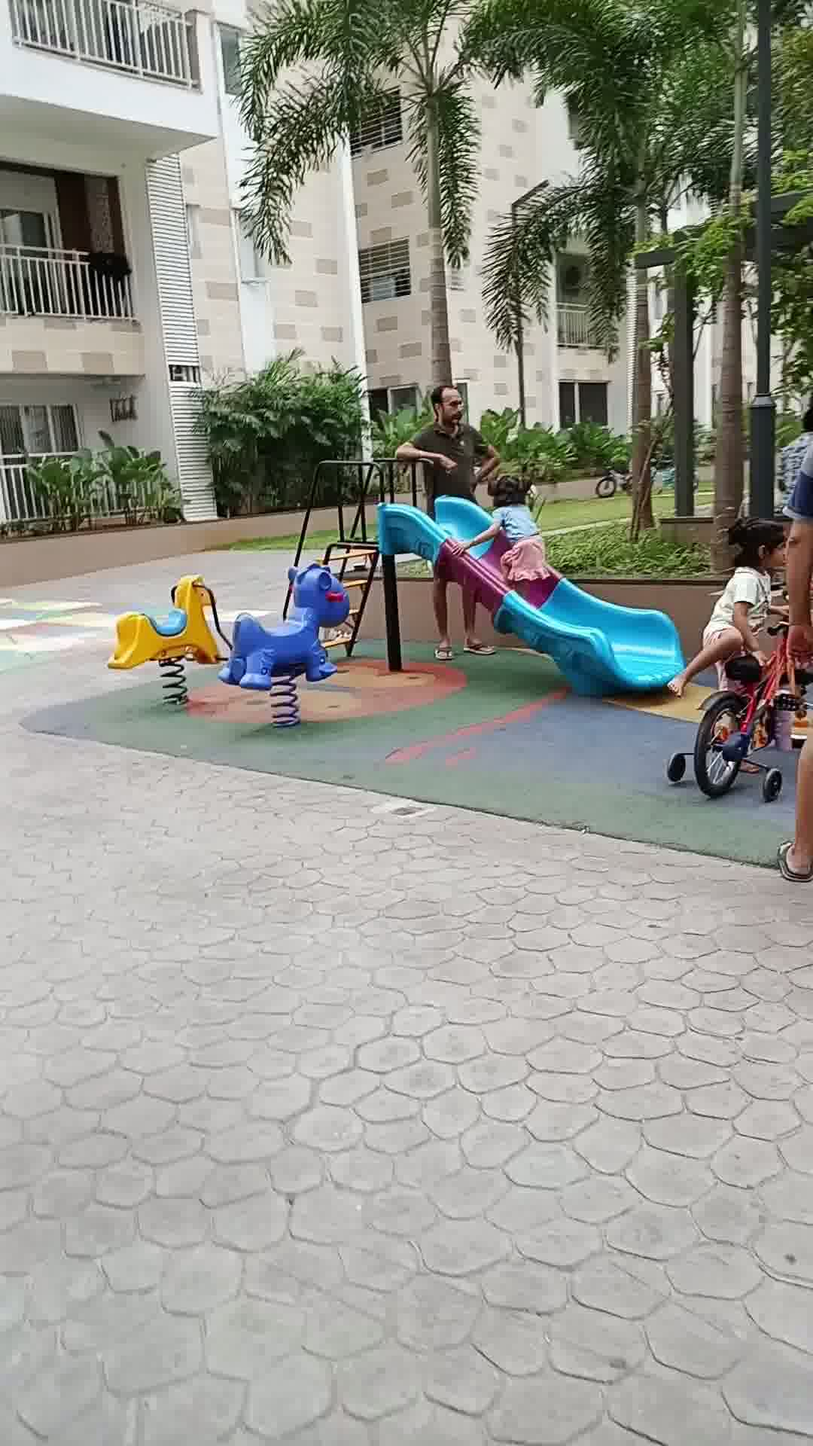bicycle: (644, 606, 804, 843)
person: (404, 359, 492, 655), (464, 444, 580, 635), (691, 455, 771, 717)
tree: (211, 10, 546, 480), (464, 12, 709, 553), (683, 32, 813, 586)
